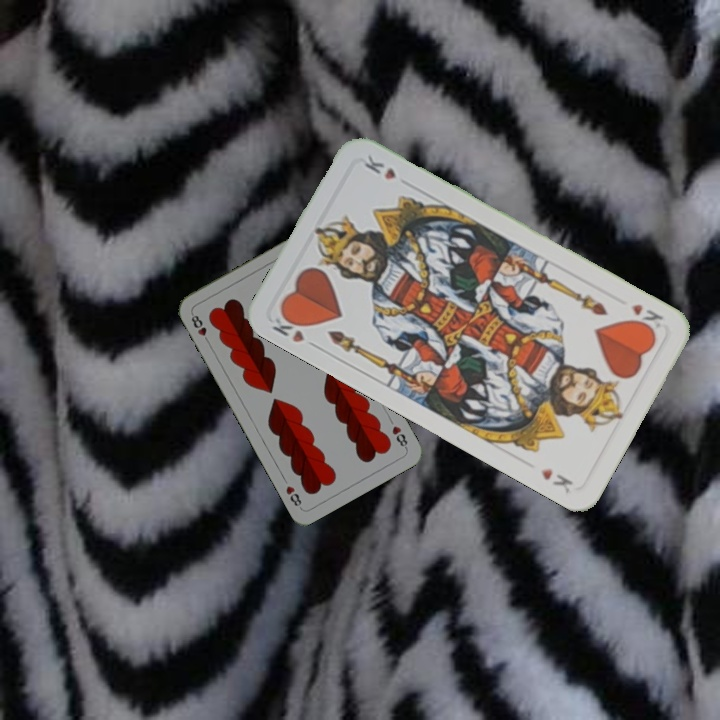H8: (187, 309, 212, 346), (388, 422, 410, 452)
HK: (268, 307, 322, 352), (626, 299, 666, 336)
